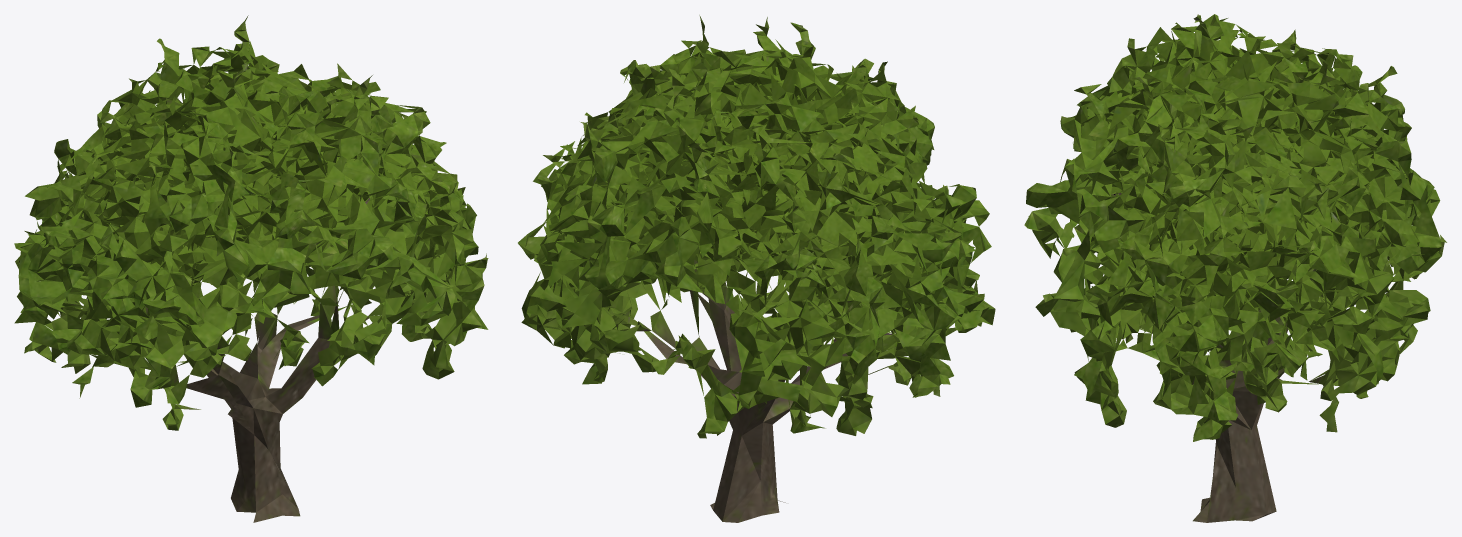
The model's file is remeshed-mango.glb.
3 views of the same model, side by side, from view 1: azimuth 30°, elevation 25°; view 2: azimuth 150°, elevation 25°; view 3: azimuth 270°, elevation 25° (orthographic). The views are drawn at different scales.
Parts seen in each view (by area): view 1: output_unwrapped; view 2: output_unwrapped; view 3: output_unwrapped.
Part boxes in pixels (box(x1,y1,x2,y2)): output_unwrapped: box(14, 15, 488, 522); output_unwrapped: box(518, 15, 995, 522); output_unwrapped: box(1024, 14, 1446, 522).
Bounding box in the file's own units: 1.77 × 1.82 × 1.45.
Materials: 1 (1 with a texture image).
